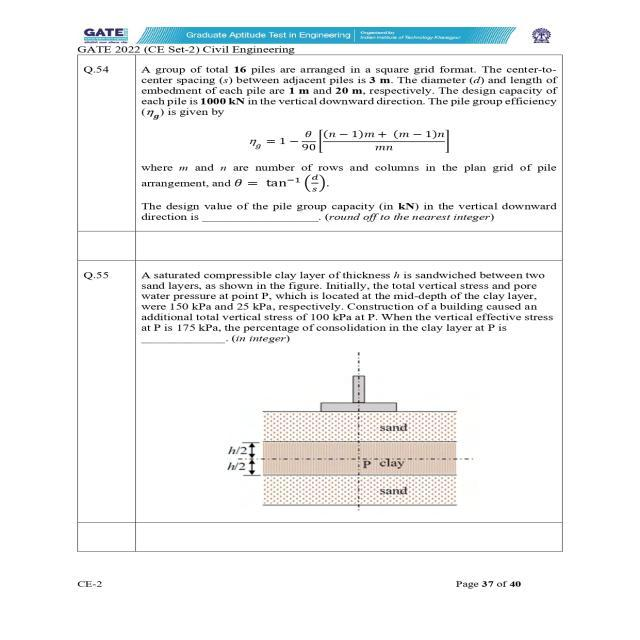Question_Answer_Block: (44, 233, 582, 522), (44, 55, 582, 232)
Question_Block: (44, 233, 582, 522), (44, 55, 582, 232)
Question_Paper_Area: (44, 56, 582, 522)
